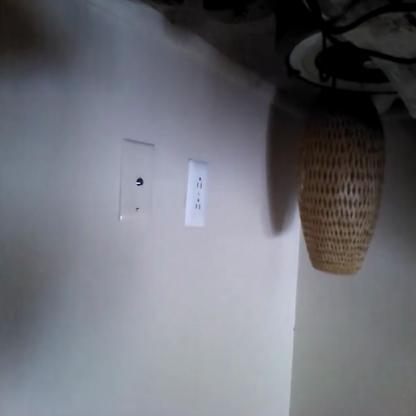OUTLET: (183, 161, 209, 226)
